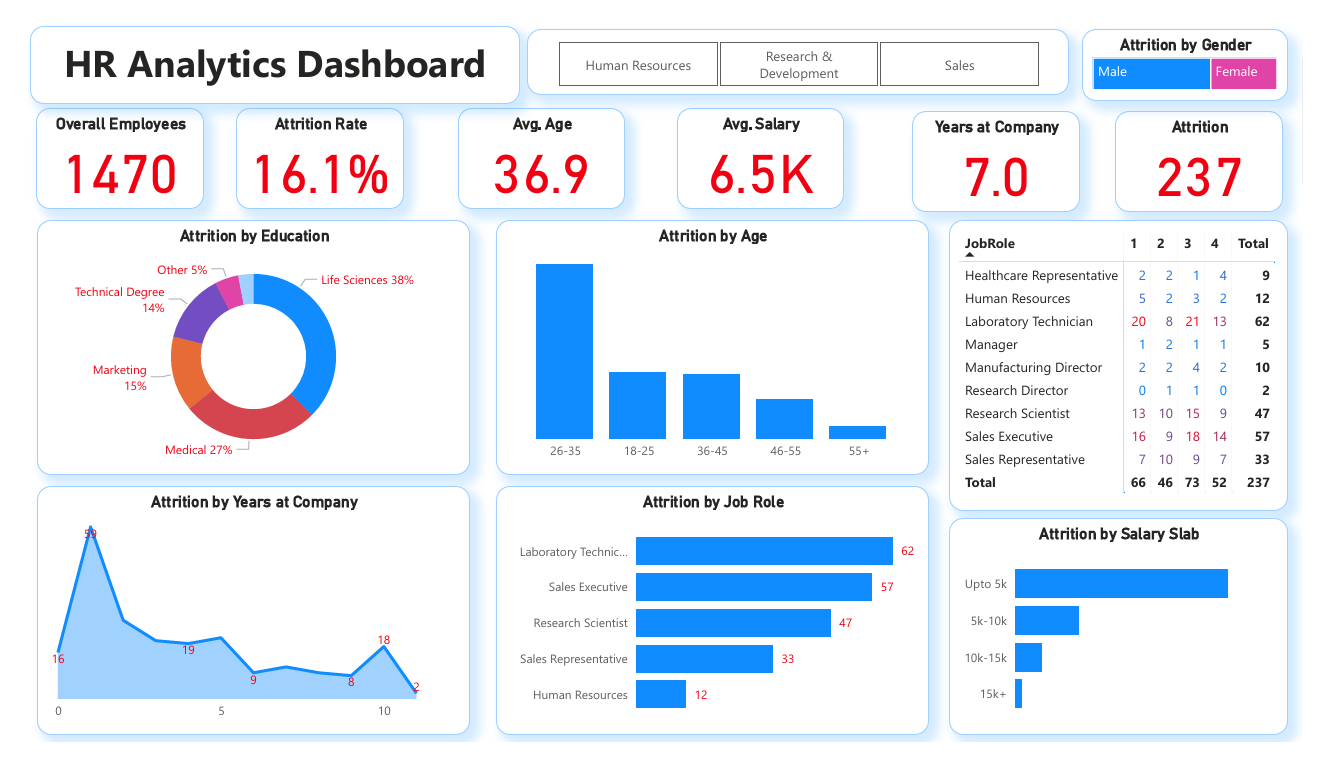

The page's visual inventory and layout, read from the dashboard file:
{"tool":"powerbi","page":{"name":"Dashboard","canvas":[1280,720],"ordinal":0},"visuals":[{"type":"card","title":"Overall Employees ","fields":{"Values":["CountNonNull(HR_Analytics.EmpID)"]},"box":[13.3,85.9,167.4,101],"z":0},{"type":"card","title":"Avg. Age","fields":{"Values":["Avg(HR_Analytics.Age)"]},"box":[434.9,85.9,167.4,101],"z":1000},{"type":"card","title":"Attrition","fields":{"Values":["Sum(HR_Analytics.AttritionCount)"]},"box":[1092.2,89.5,167.4,101],"z":2000},{"type":"card","title":"Attrition Rate","fields":{"Values":["HR_Analytics.AttritionRAte"]},"box":[213.5,85.9,167.4,101],"z":3000},{"type":"card","title":"Years at Company","fields":{"Values":["Avg(HR_Analytics.YearsAtCompany)"]},"box":[889.4,89.5,167.4,101],"z":4000},{"type":"card","title":"Avg. Salary","fields":{"Values":["Avg(HR_Analytics.MonthlyIncome)"]},"box":[653.7,85.9,167.4,101],"z":5000},{"type":"donutChart","title":"Attrition by Education","fields":{"Category":["HR_Analytics.EducationField"],"Y":["Sum(HR_Analytics.AttritionCount)"]},"box":[14.2,197.5,433.2,255.1],"z":6000},{"type":"columnChart","title":"Attrition by Age","fields":{"Category":["HR_Analytics.AgeGroup"],"Y":["Sum(HR_Analytics.AttritionCount)"]},"box":[473,197.5,433.2,255.1],"z":7000},{"type":"textbox","box":[7.1,3.5,489.9,78.8],"z":8000},{"type":"slicer","fields":{"Values":["HR_Analytics.Department"]},"box":[504,7.1,542.1,65.6],"z":9000},{"type":"treemap","title":"Attrition by Gender","fields":{"Group":["HR_Analytics.Gender"],"Values":["Sum(HR_Analytics.AttritionCount)"]},"box":[1058.5,7.1,206.4,71.8],"z":10000},{"type":"pivotTable","fields":{"Rows":["HR_Analytics.JobRole"],"Columns":["HR_Analytics.JobSatisfaction"],"Values":["Sum(HR_Analytics.AttritionCount)"]},"box":[925.7,197.5,339.3,291.4],"z":11000},{"type":"barChart","title":"Attrition by Salary Slab","fields":{"Category":["HR_Analytics.SalarySlab"],"Y":["Sum(HR_Analytics.AttritionCount)"]},"box":[926,496,339,217],"z":12000},{"type":"areaChart","title":"Attrition by Years at Company","fields":{"Category":["HR_Analytics.YearsAtCompany"],"Y":["Sum(HR_Analytics.AttritionCount)"]},"box":[14.2,464.2,433.2,248.9],"z":13000},{"type":"barChart","title":"Attrition by Job Role","fields":{"Category":["HR_Analytics.JobRole"],"Y":["Sum(HR_Analytics.AttritionCount)"]},"box":[473,464.2,433.2,248.9],"z":14000}]}

Visuals, with their boxes in screenshot pixels (x1, y1, x2, y2), scaled from the page's 1280x720 canvas onto the 1326x766 screenshot:
"Overall Employees " card: x1=14, y1=91, x2=187, y2=199
"Avg. Age" card: x1=451, y1=91, x2=624, y2=199
"Attrition" card: x1=1131, y1=95, x2=1305, y2=203
"Attrition Rate" card: x1=221, y1=91, x2=395, y2=199
"Years at Company" card: x1=921, y1=95, x2=1095, y2=203
"Avg. Salary" card: x1=677, y1=91, x2=851, y2=199
"Attrition by Education" donutChart: x1=15, y1=210, x2=463, y2=482
"Attrition by Age" columnChart: x1=490, y1=210, x2=939, y2=482
textbox: x1=7, y1=4, x2=515, y2=88
slicer - HR_Analytics.Department: x1=522, y1=8, x2=1084, y2=77
"Attrition by Gender" treemap: x1=1097, y1=8, x2=1310, y2=84
pivotTable - HR_Analytics.JobRole x HR_Analytics.JobSatisfaction: x1=959, y1=210, x2=1310, y2=520
"Attrition by Salary Slab" barChart: x1=959, y1=528, x2=1310, y2=759
"Attrition by Years at Company" areaChart: x1=15, y1=494, x2=463, y2=759
"Attrition by Job Role" barChart: x1=490, y1=494, x2=939, y2=759
